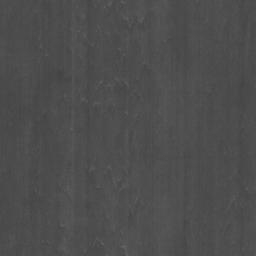Silk spot: (8, 0, 250, 256), (224, 0, 248, 57), (240, 76, 245, 88)
